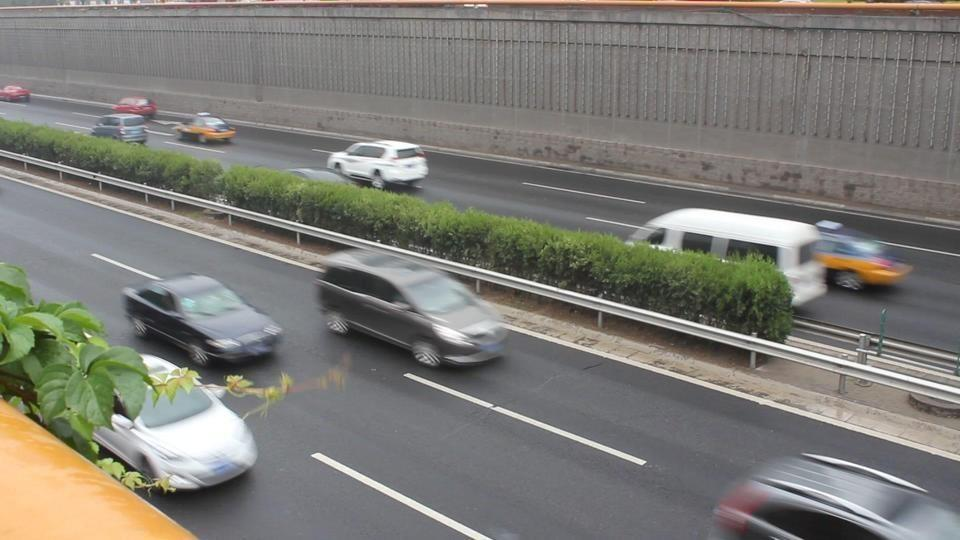car: (315, 248, 510, 369), (712, 451, 959, 538), (89, 376, 259, 497), (119, 273, 286, 367), (812, 220, 915, 291), (327, 139, 429, 190), (174, 112, 237, 145), (90, 113, 149, 144), (111, 95, 159, 119), (0, 84, 32, 103)
